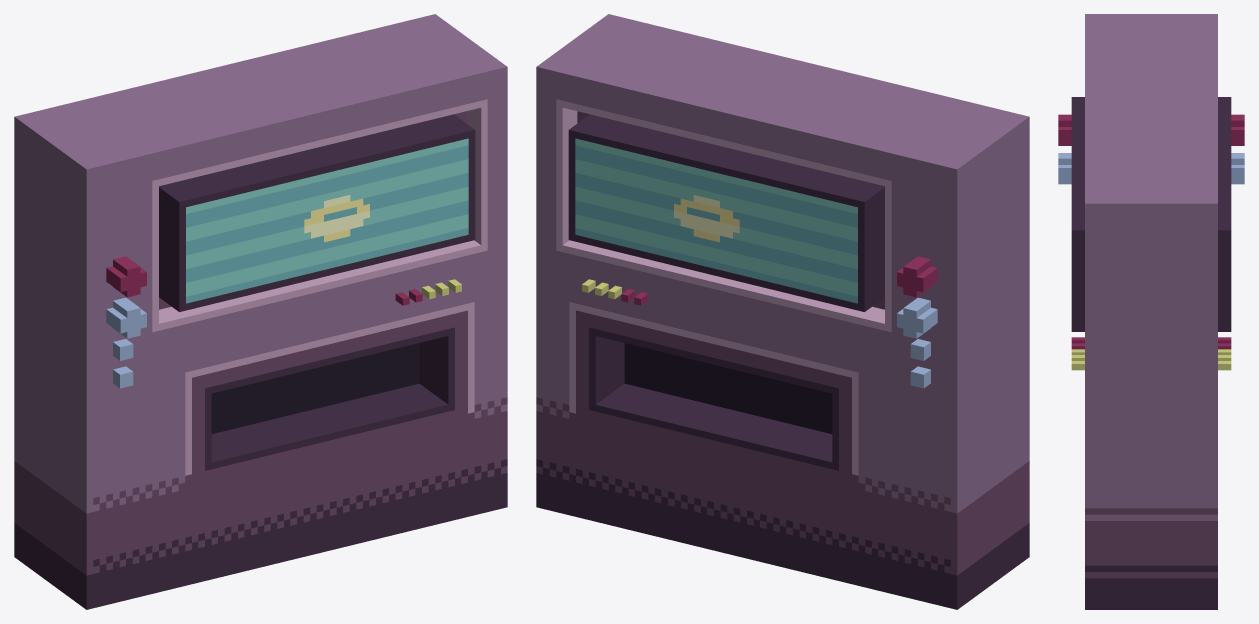
File: ilac_makinesi.fbx
3 renders of one model, left to right at view 1: azimuth 30°, elevation 25°; view 2: azimuth 150°, elevation 25°; view 3: azimuth 270°, elevation 25°, orthographic. The views are drawn at different scales.
Parts seen in each view (by area): view 1: generated; view 2: generated; view 3: generated.
Part boxes in pixels (<box>): generated: <box>14,14,507,609</box>; generated: <box>536,14,1029,609</box>; generated: <box>1058,14,1244,609</box>.
Size of the model in its own units: 640 by 640 by 266.
